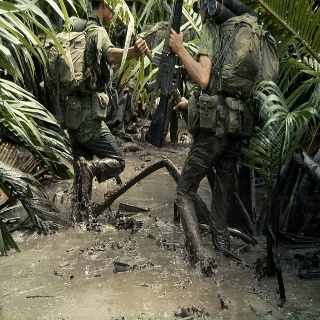rifle: (146, 1, 184, 148)
